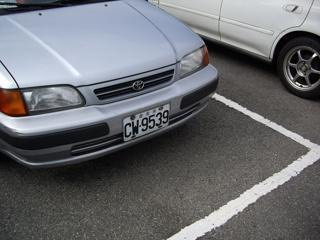plate: (120, 109, 171, 136)
